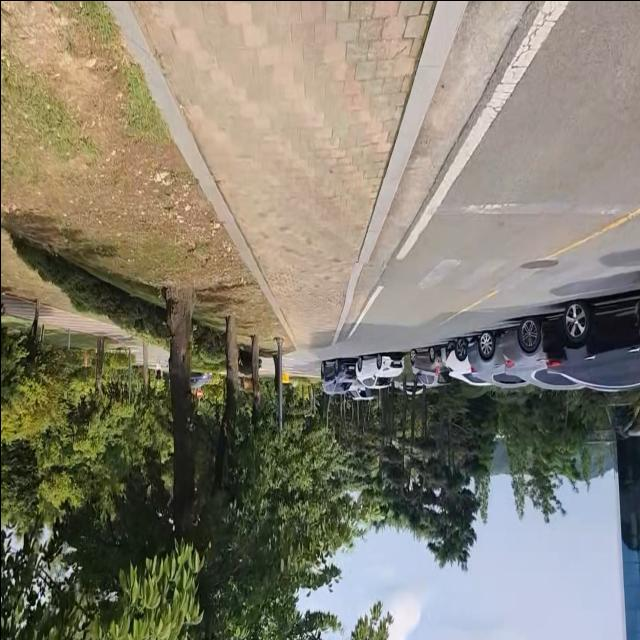obstacle: (406, 314, 587, 394), (535, 279, 640, 394), (317, 345, 404, 403)
road: (330, 0, 640, 355)
sidewalk: (107, 0, 453, 351)
